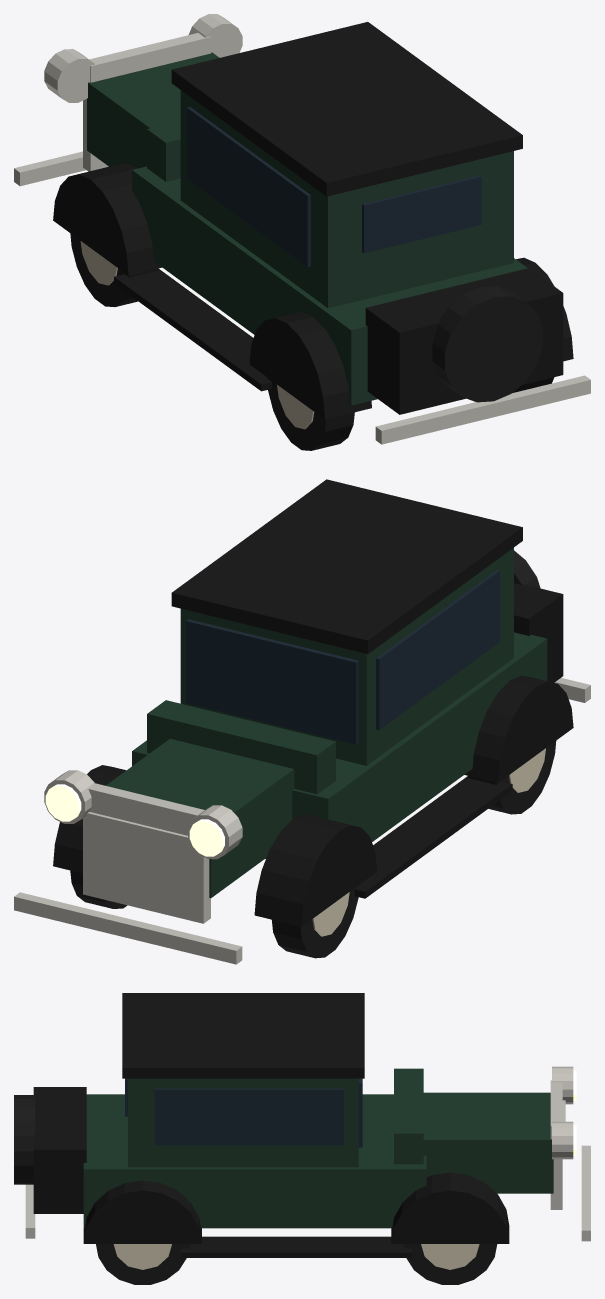
File: car_sedan_green.glb
The picture shows the model from 3 angles, top to bottom: view 1: azimuth 30°, elevation 25°; view 2: azimuth 150°, elevation 25°; view 3: azimuth 270°, elevation 25°; orthographic projection. The views are drawn at different scales.
Visible parts, largest first — view 1: lower; view 2: lower; view 3: lower.
Part boxes in pixels (box(x1,y1,x2,y2)): lower: box(14, 14, 590, 450); lower: box(14, 479, 590, 964); lower: box(14, 993, 590, 1284).
Size of the model in its own units: 1.92 by 1.96 by 4.88.
